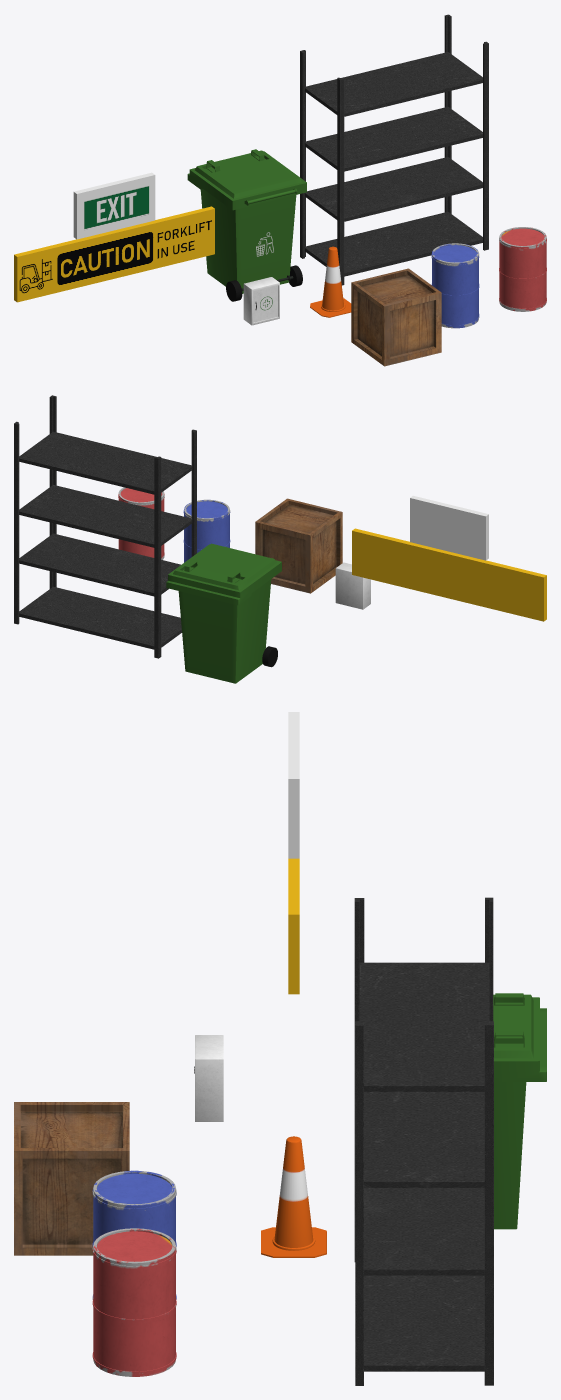
File: props1_1.fbx
3 renders of one model, top to bottom at view 1: azimuth 30°, elevation 25°; view 2: azimuth 150°, elevation 25°; view 3: azimuth 270°, elevation 25°, orthographic. The views are drawn at different scales.
Parts seen in each view (by area): view 1: Safetycone.009, Safetycone.001, Safetycone.019, Safetycone.018, Safetycone.020, Safetycone.016, Safetycone.017, Safetycone.006, Safetycone; view 2: Safetycone.009, Safetycone.001, Safetycone.019, Safetycone.018, Safetycone.020, Safetycone.017, Safetycone.006, Safetycone.016; view 3: Safetycone.009, Safetycone.018, Safetycone.016, Safetycone.001, Safetycone.017, Safetycone, Safetycone.006, Safetycone.020, Safetycone.019.
Boxes of the visible parts, x1,y1,x2,y2 form: Safetycone.009: (300,14,488,285); Safetycone.001: (187,149,306,293); Safetycone.019: (14,206,214,302); Safetycone.018: (351,268,441,366); Safetycone.020: (73,172,155,239); Safetycone.016: (499,227,546,311); Safetycone.017: (431,243,479,328); Safetycone.006: (243,277,279,325); Safetycone: (310,246,351,317); Safetycone.009: (14,395,196,658); Safetycone.001: (166,543,281,683); Safetycone.019: (352,528,546,621); Safetycone.018: (255,498,342,593); Safetycone.020: (410,495,488,560); Safetycone.017: (183,499,230,562); Safetycone.006: (335,562,370,609); Safetycone.016: (118,487,164,559); Safetycone.009: (354,897,493,1385); Safetycone.018: (14,1102,129,1255); Safetycone.016: (92,1228,176,1376); Safetycone.001: (493,993,546,1229); Safetycone.017: (92,1170,176,1299); Safetycone: (261,1136,326,1257); Safetycone.006: (194,1035,223,1121); Safetycone.020: (288,712,299,858); Safetycone.019: (288,858,299,994).
Size of the model in its own units: 467 by 190 by 251.
